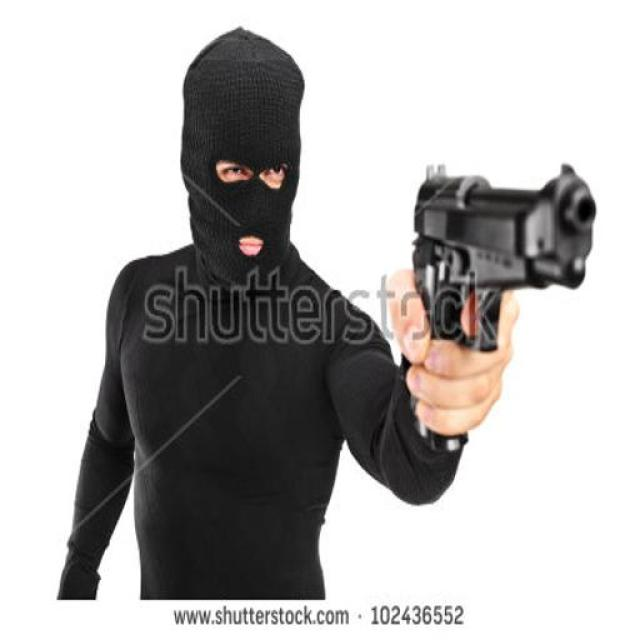pistol: (409, 155, 595, 447)
